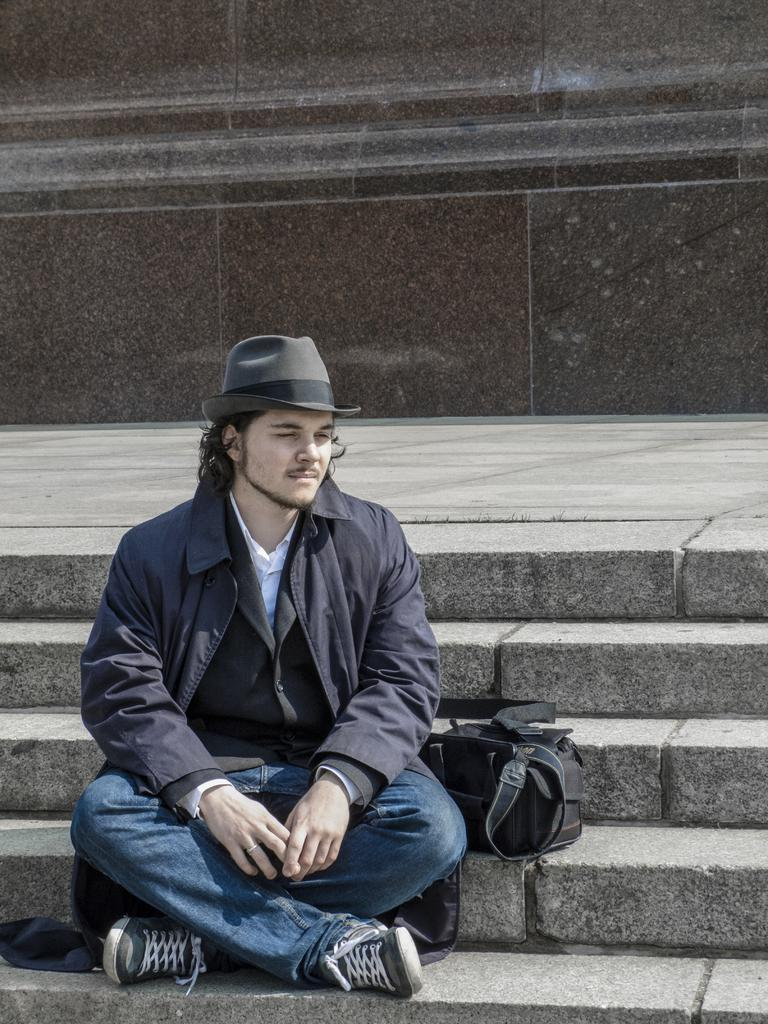Luggage-and-bags: (454, 714, 584, 878)
